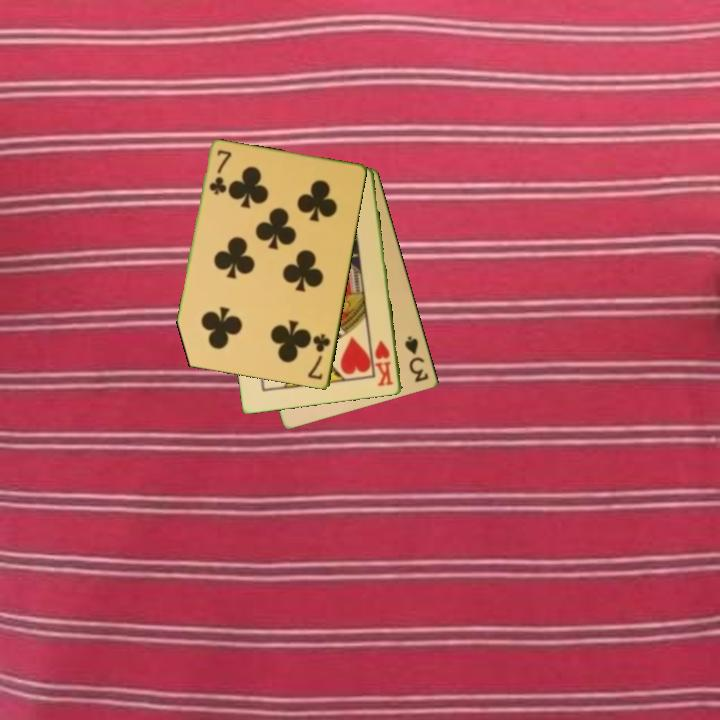3s: (401, 333, 432, 385)
7c: (304, 330, 333, 383), (206, 146, 233, 198)
Kh: (371, 337, 396, 389)
